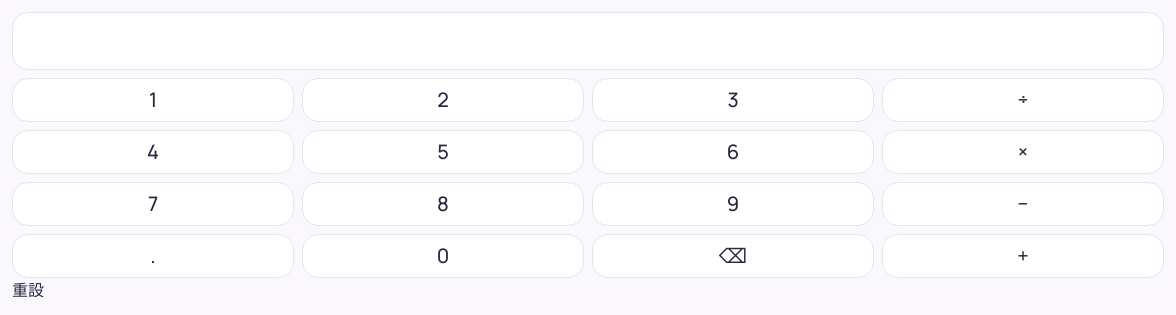
Test case: NumericKeypad › mode="amount" › 刪除鍵可逐位刪除
This screenshot has width=1176, height=315.
Click the button named "數字 1" at (153, 100), box [12, 78, 294, 122]
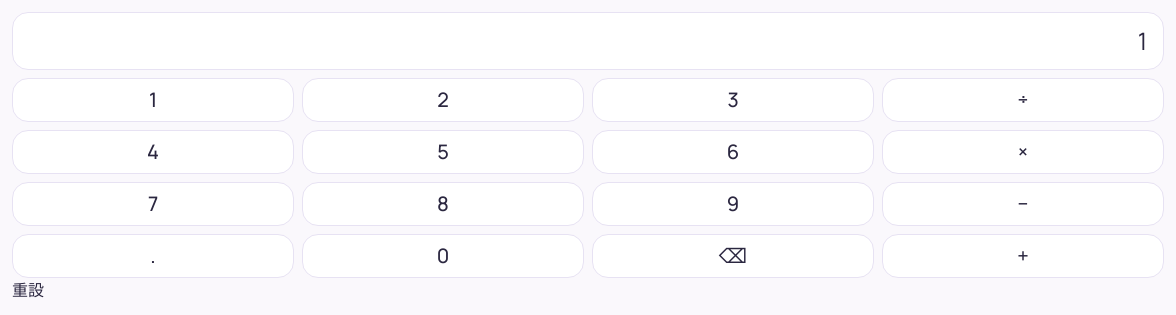
Click the button named "數字 2" at (443, 100), box [302, 78, 584, 122]
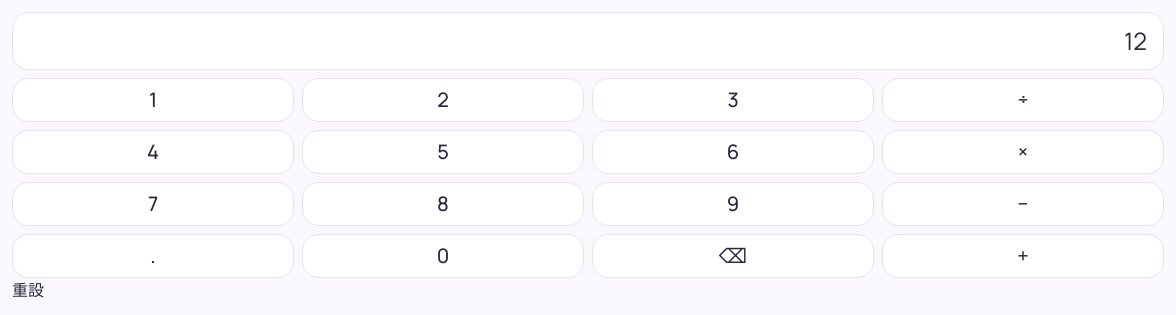
Click the button named "刪除" at (733, 256), box [592, 234, 874, 278]
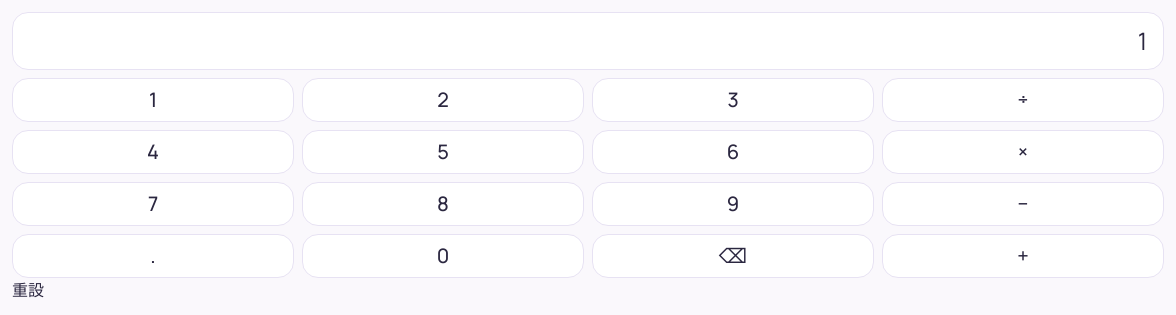
Now the field named "金額" holds "1", box [12, 12, 1164, 70]
